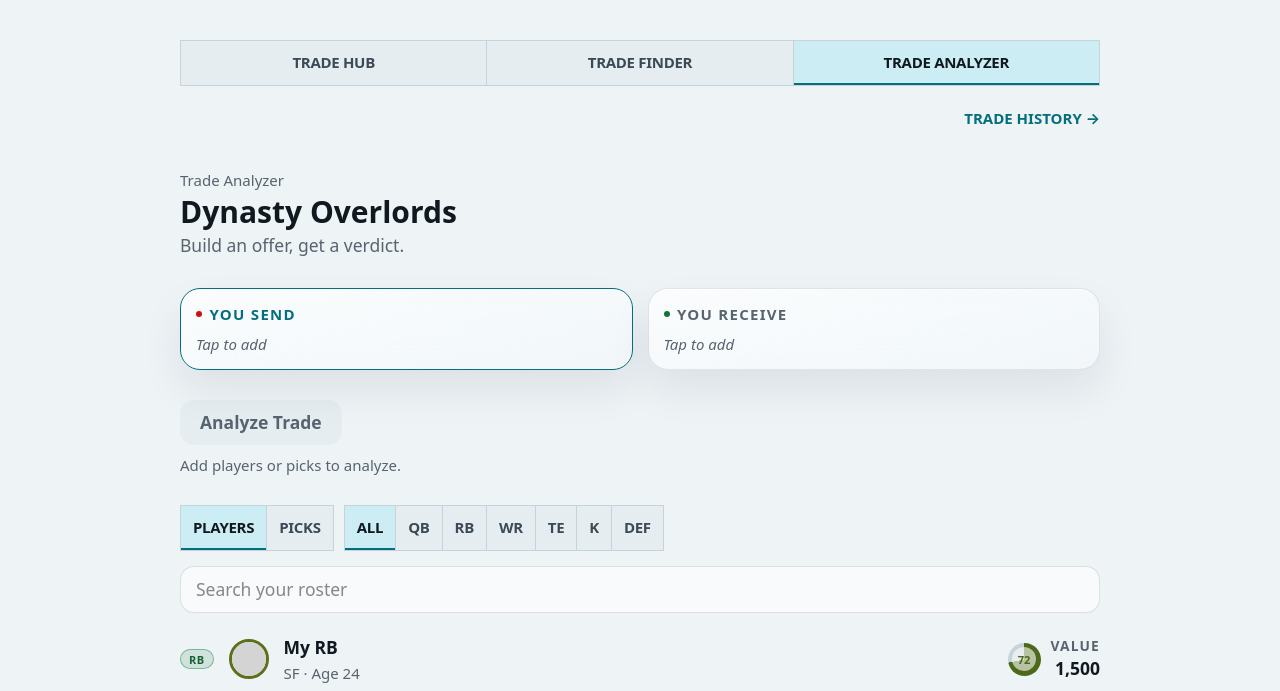
Test: TradeAnalyzerContent › shows a lineup-hole warning and a direction-matched rationale heading (coridian_ 2026-10-27)
Click the text "My RB". click: (311, 647)
box: [284,635,338,659]
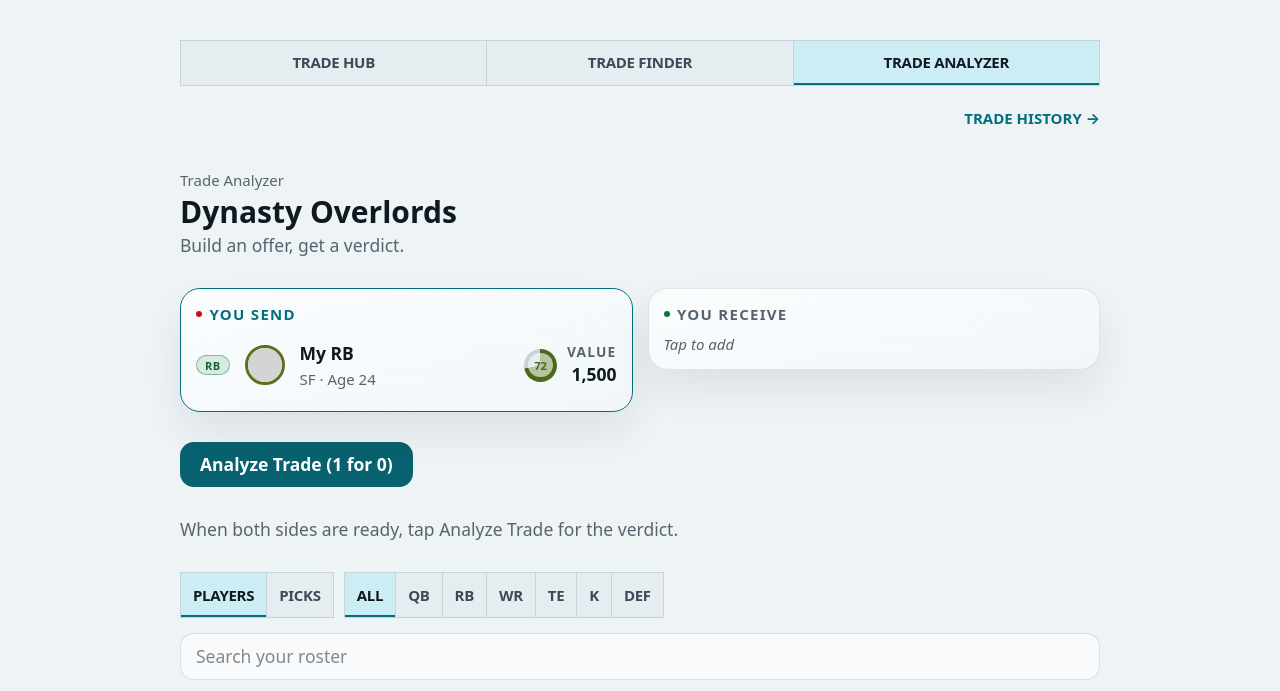
Click the button "You receive". click: (726, 314)
box: [664,304,788,324]
(page scrolled)
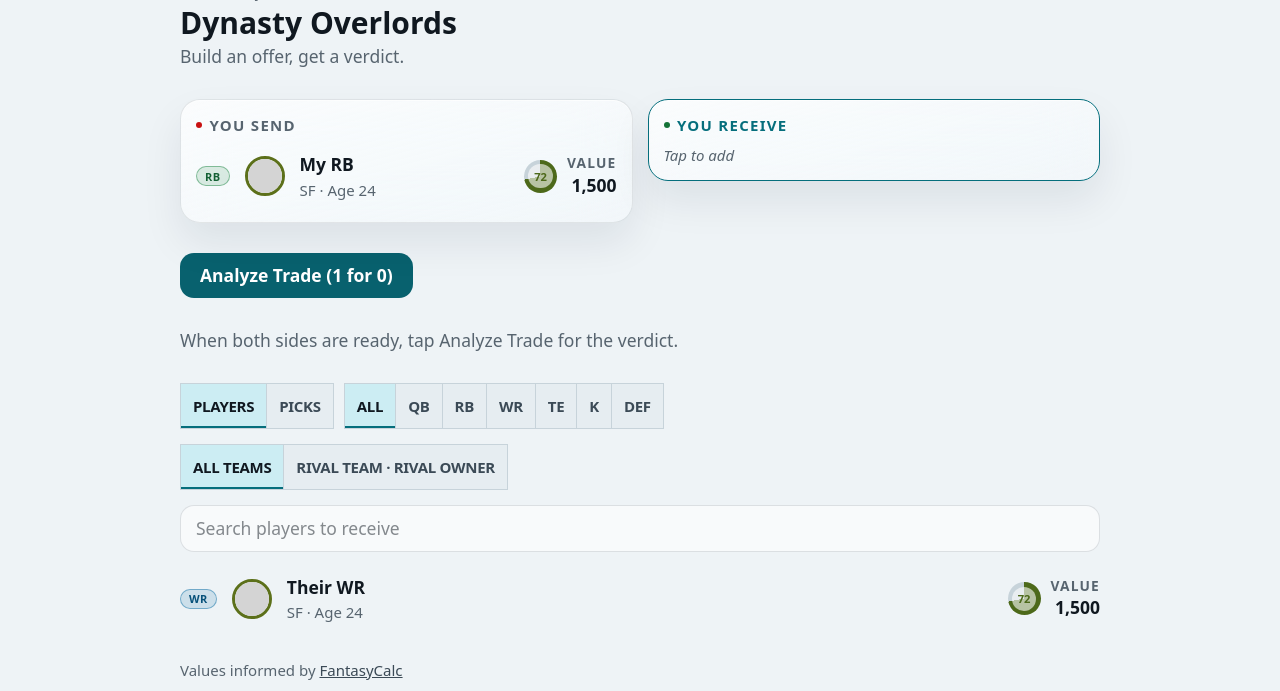
Click the text "Their WR". click: (326, 588)
box: [287,575,365,600]
(page scrolled)
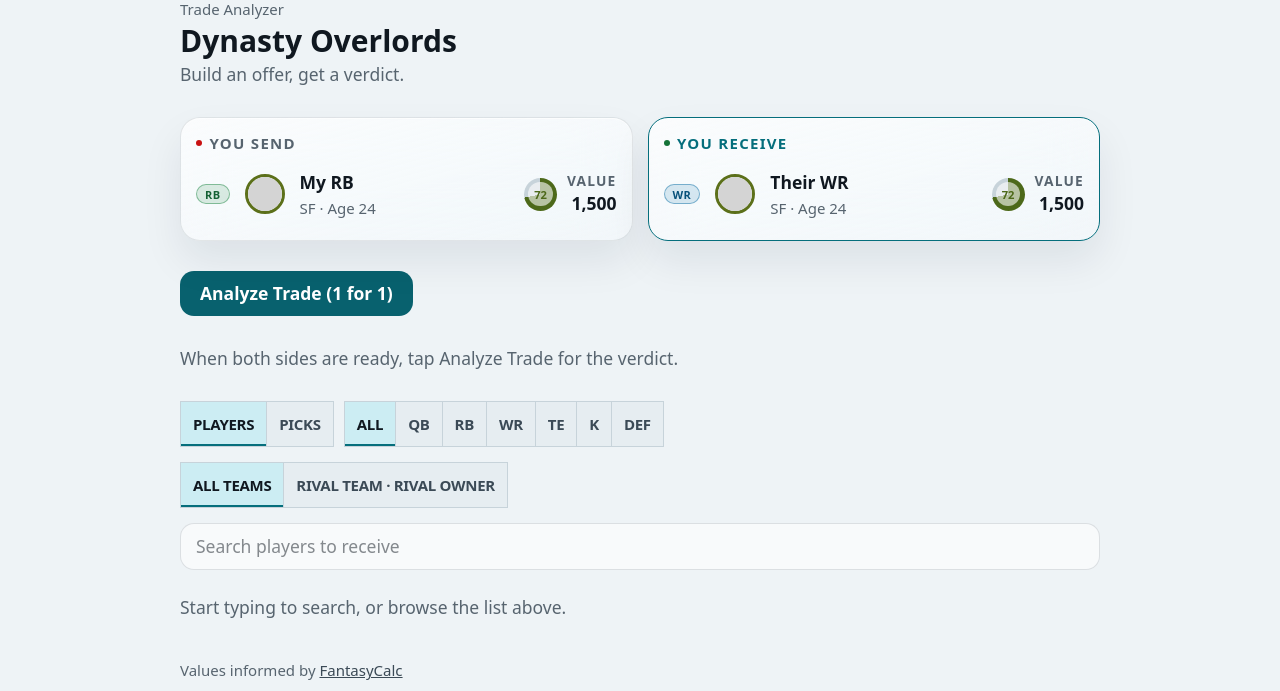
Click the button "Analyze Trade (1 for 1)". click: (296, 294)
box: [180,272,413,316]
(page scrolled)
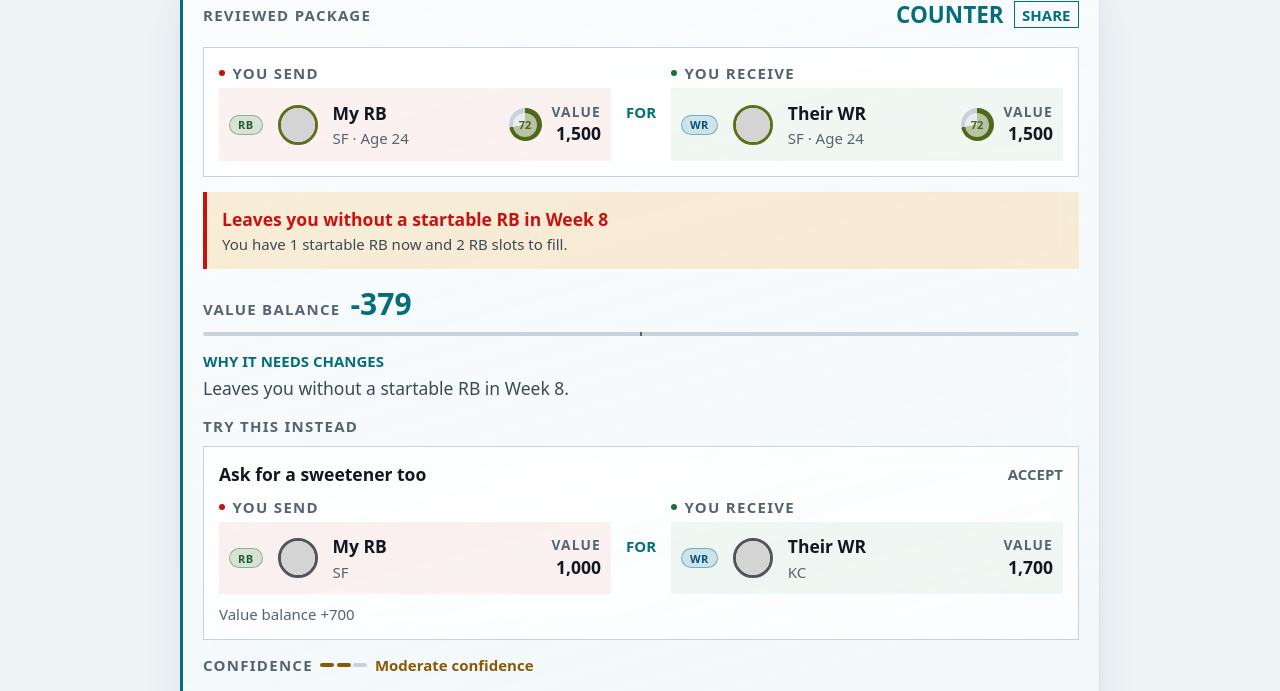
Check: the list with test id "lineup-warnings" shows "Leaves you without a startable RB in Week 8", box [222,207,608,231]
Check: the message is shown, box [203,192,1079,269]
Check: the text "Why it needs changes" is shown, box [203,351,384,371]
